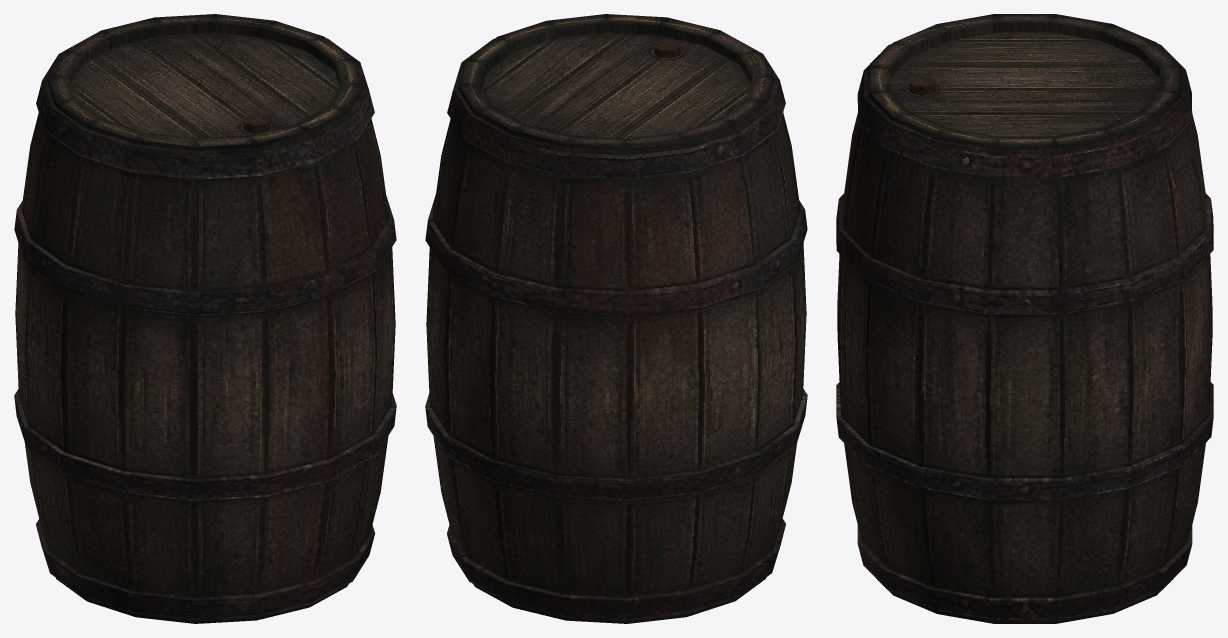
The model's file is wooden_barrel_1.glb.
The picture shows the model from 3 angles, left to right: view 1: azimuth 30°, elevation 25°; view 2: azimuth 150°, elevation 25°; view 3: azimuth 270°, elevation 25°; orthographic projection.
Visible parts, largest first — view 1: wooden_barrel_1; view 2: wooden_barrel_1; view 3: wooden_barrel_1.
Boxes of the visible parts, bbox=[...] form: wooden_barrel_1: bbox=[14, 14, 396, 623]; wooden_barrel_1: bbox=[425, 14, 807, 623]; wooden_barrel_1: bbox=[836, 14, 1213, 623].
Bounding box in the file's own units: 0.7148 × 1 × 0.7148.
Materials: 1 (1 with a texture image).
